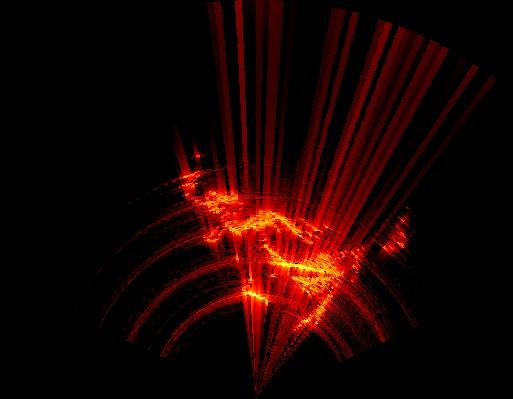shipwreck: (264, 238, 343, 326), (204, 210, 317, 244), (243, 281, 276, 303), (201, 194, 225, 215)
